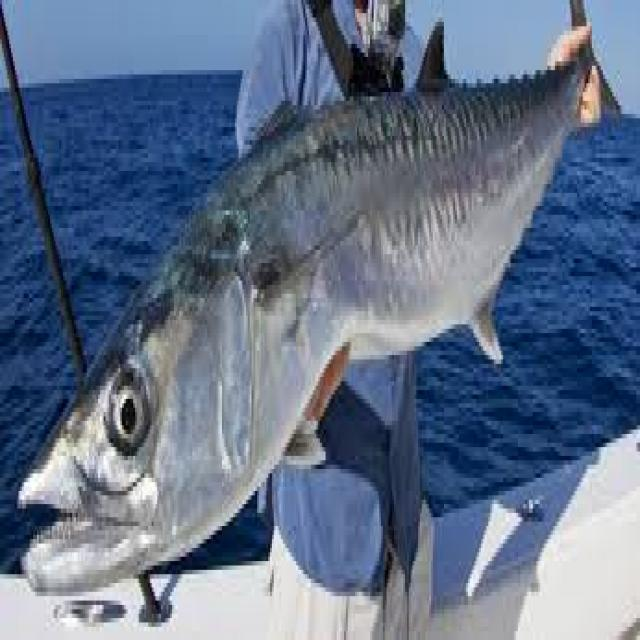King Mackerel: (15, 4, 623, 605)
